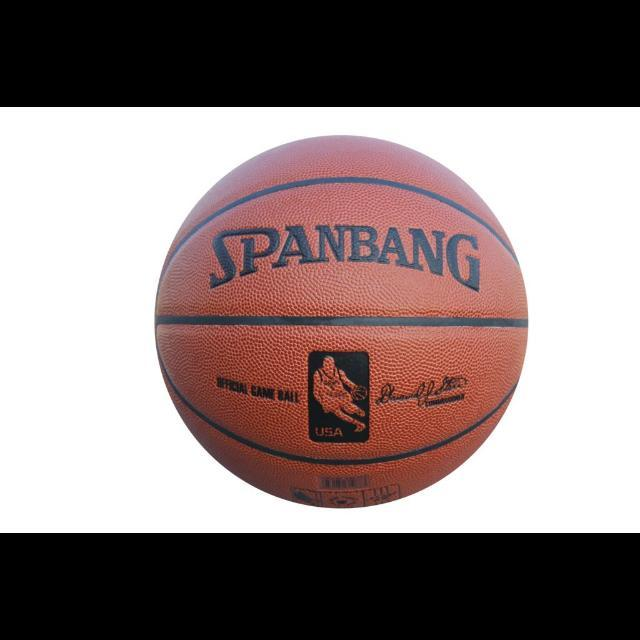basketball: (155, 136, 528, 509)
